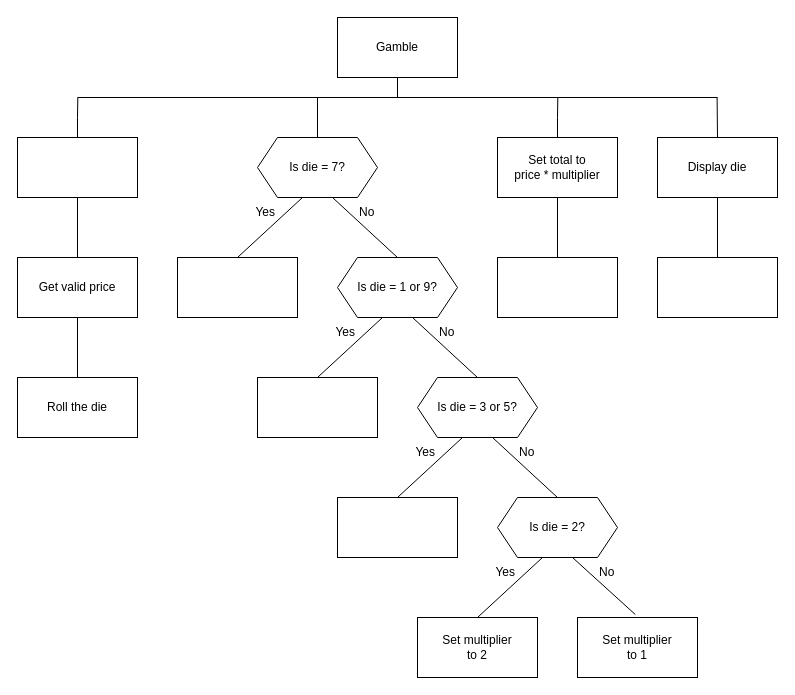
This 795x695 diagram has some shape labels left out. The shapes that lost their labels are listed below. From the top down, each one's centre as x and y in pixels, then its label:
[77,167]: Initialise variables
[237,287]: Set multiplier to 0
[557,287]: Round total
[717,287]: Display total
[317,407]: Set multiplier to 0.5
[397,527]: Set multiplier to 0.75
